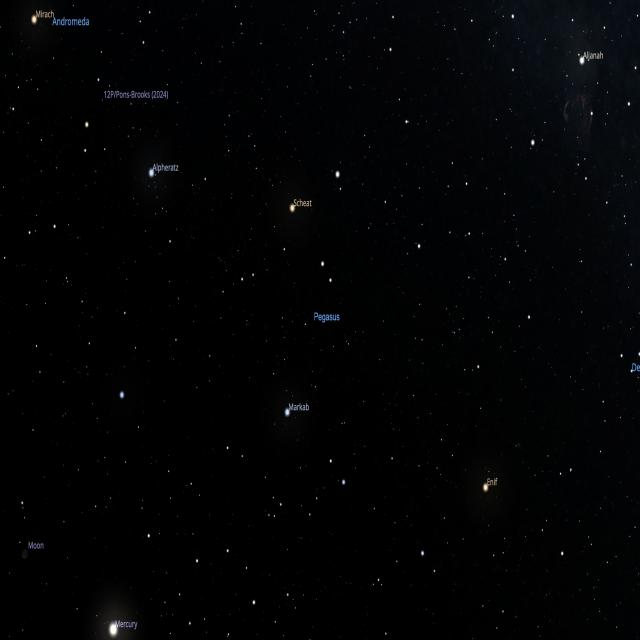Pegasus: (116, 117, 491, 560)
